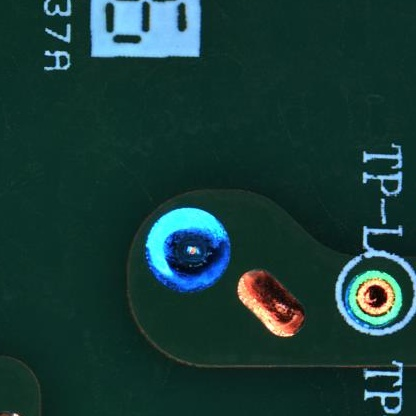spot: (143, 206, 230, 292), (343, 268, 404, 327)
